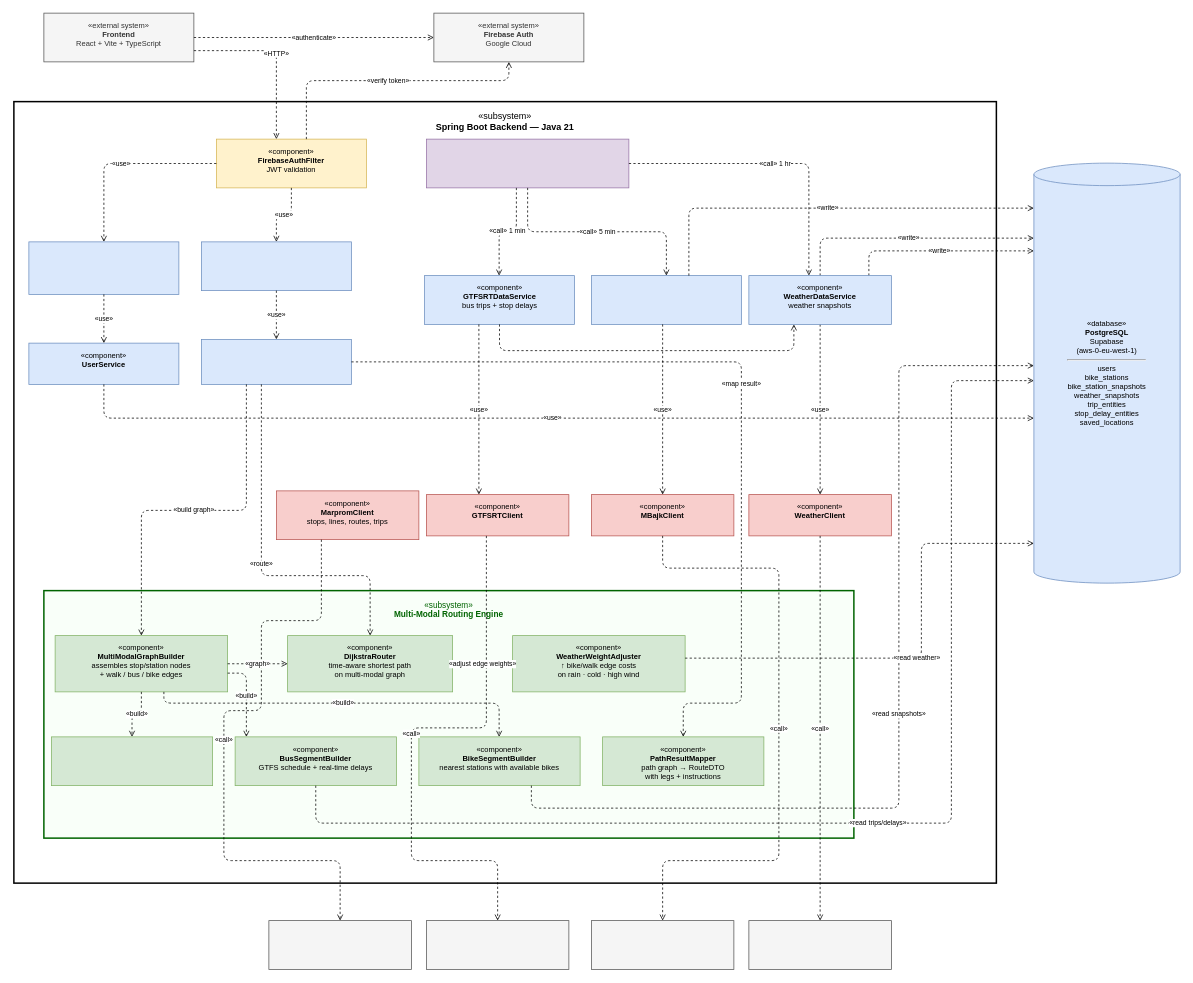
Some shapes in this 1193 by 983 pixel diagram are drawn without their labels. The centre of each missing label's shape, as x and y in pixels:
«component» MBajkDataService bike station snapshots: the point at 666,299
«component» PathController POST /api/path: the point at 276,266
«component» PathService orchestrates routing pipeline: the point at 276,361
«component» SchedulerService 05:00–23:00 | bus:1min bikes:5min weather:1hr: the point at 527,163
«component» UserController GET /api/users/me POST /api/users/me: the point at 103,267
«component» WalkingSegmentBuilder haversine → minutes at 5 km/h: the point at 132,761
«external system» GTFS-RT Feed rt.gtfs.derp.si: the point at 497,944
«external system» Marprom Proxy marprom-proxy.derp.si/OBA: the point at 339,944
«external system» MBajk API bike availability: the point at 662,944
«external system» OpenWeatherMap API current weather: the point at 819,944
